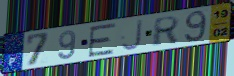7: (25, 31, 51, 68)
9: (183, 9, 209, 44), (57, 29, 77, 61)
E: (87, 21, 118, 58)
J: (120, 18, 144, 52)
R: (150, 14, 181, 49)
